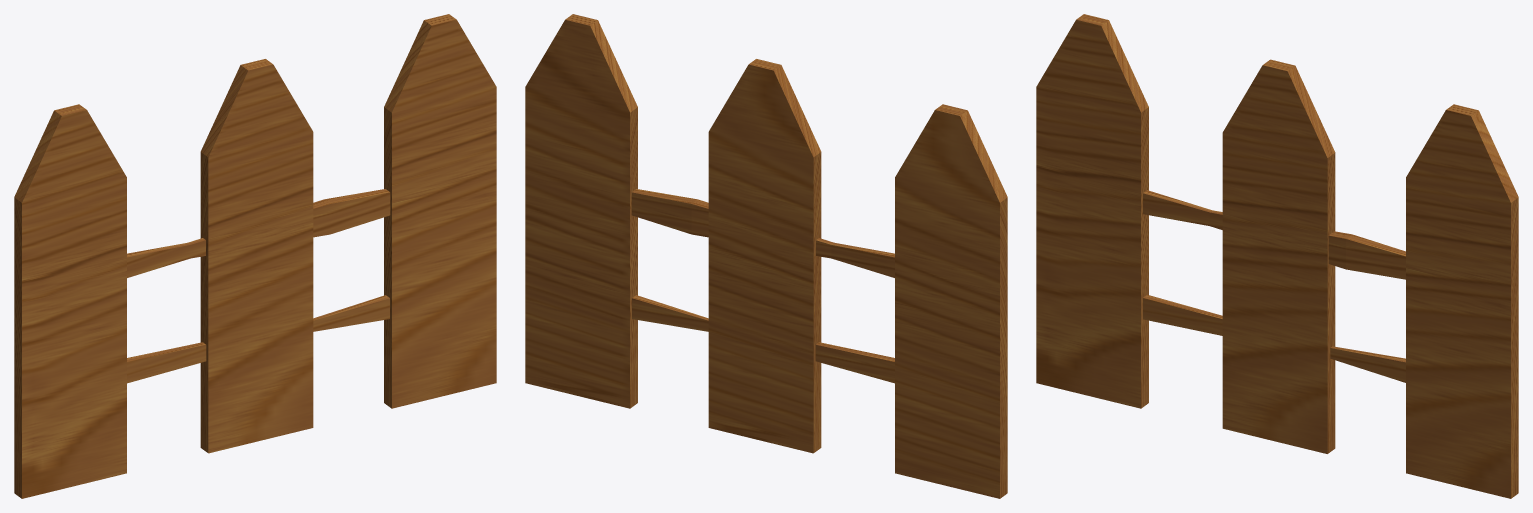
Rendered from Valla 3_V3.fbx.
The picture shows the model from 3 angles, left to right: view 1: azimuth 30°, elevation 25°; view 2: azimuth 150°, elevation 25°; view 3: azimuth 330°, elevation 25°; orthographic projection.
Visible parts, largest first — view 1: Cube.011; view 2: Cube.011; view 3: Cube.011.
Part boxes in pixels (bbox=[...]): Cube.011: bbox=[14, 14, 496, 498]; Cube.011: bbox=[525, 14, 1007, 498]; Cube.011: bbox=[1036, 14, 1518, 498].
Size of the model in its own units: 336 by 252 by 9.58.
Materials: 1 (1 with a texture image).
